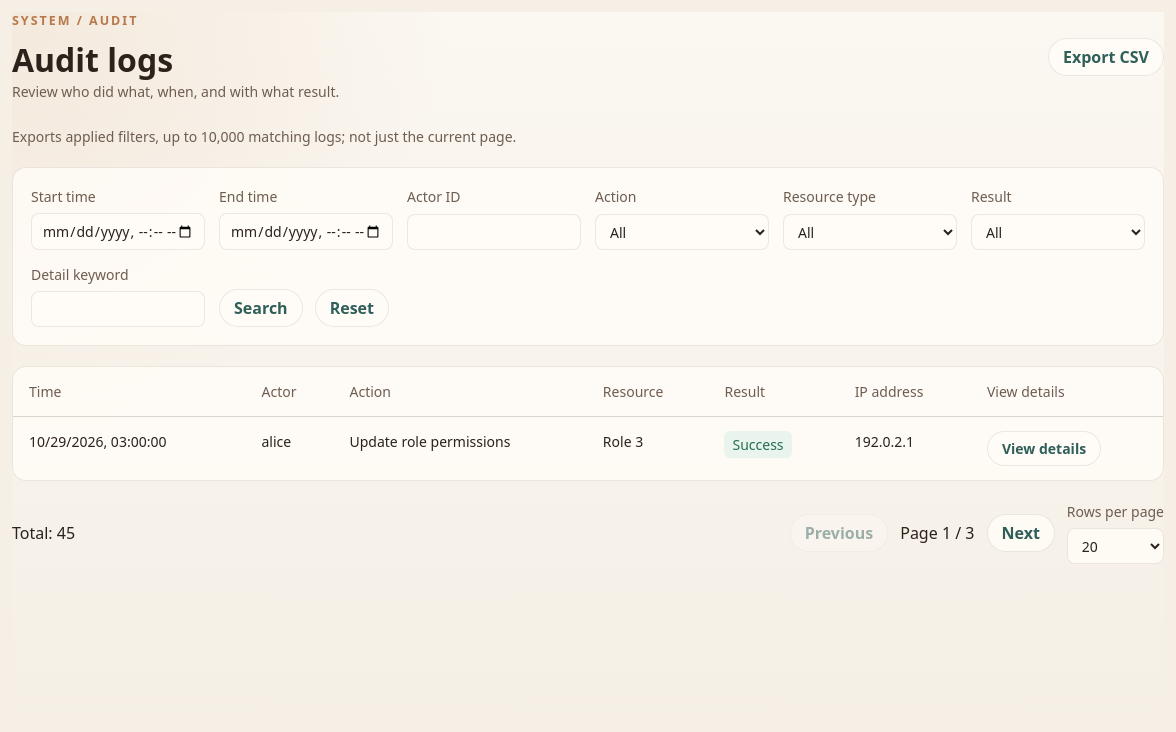
Test: audit log page › returns to the last valid page when records disappear
The image size is (1176, 732).
Click the button "Next".
click(1021, 533)  # box [986,514,1055,552]
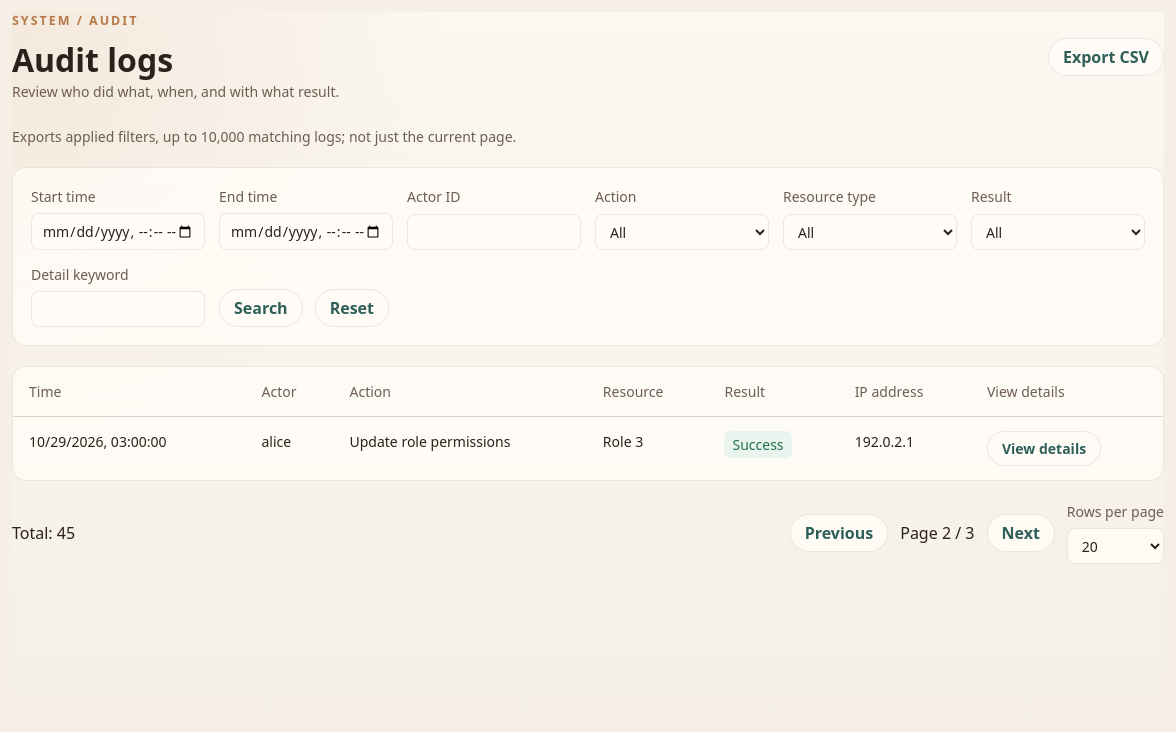
Click the button "Next".
click(1021, 533)  # box [986,514,1055,552]
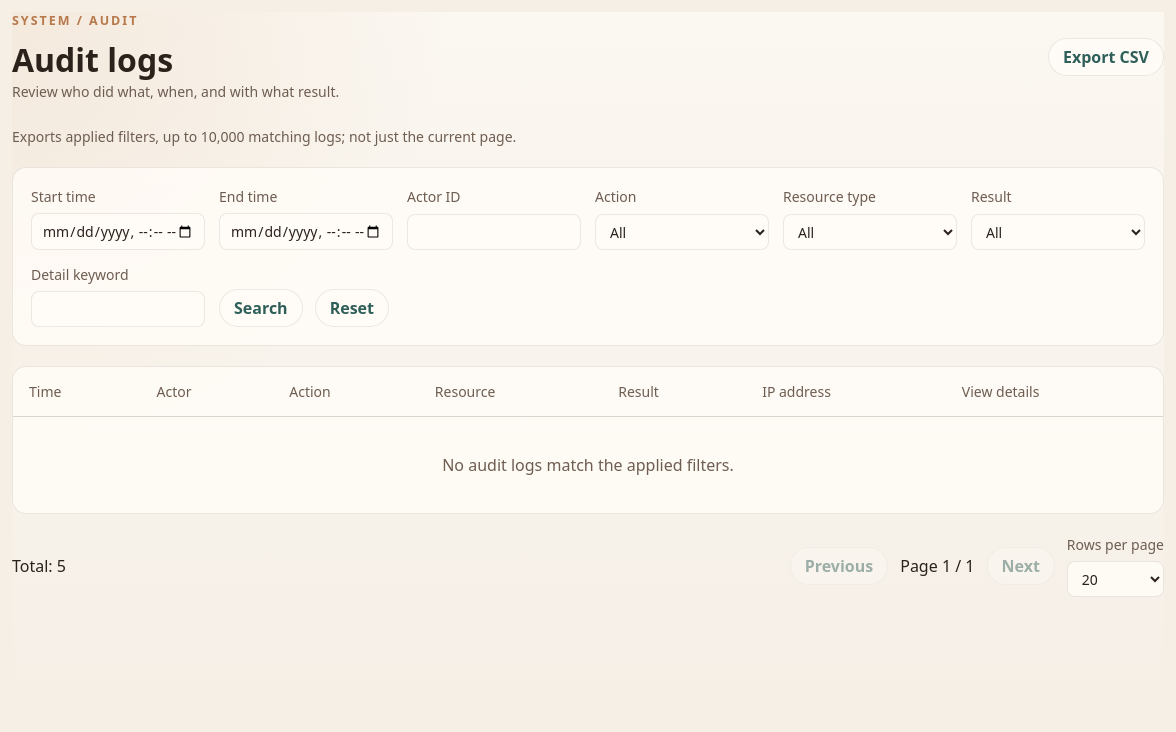
Result: the text "No audit logs" is shown at [442,454,734,476]
